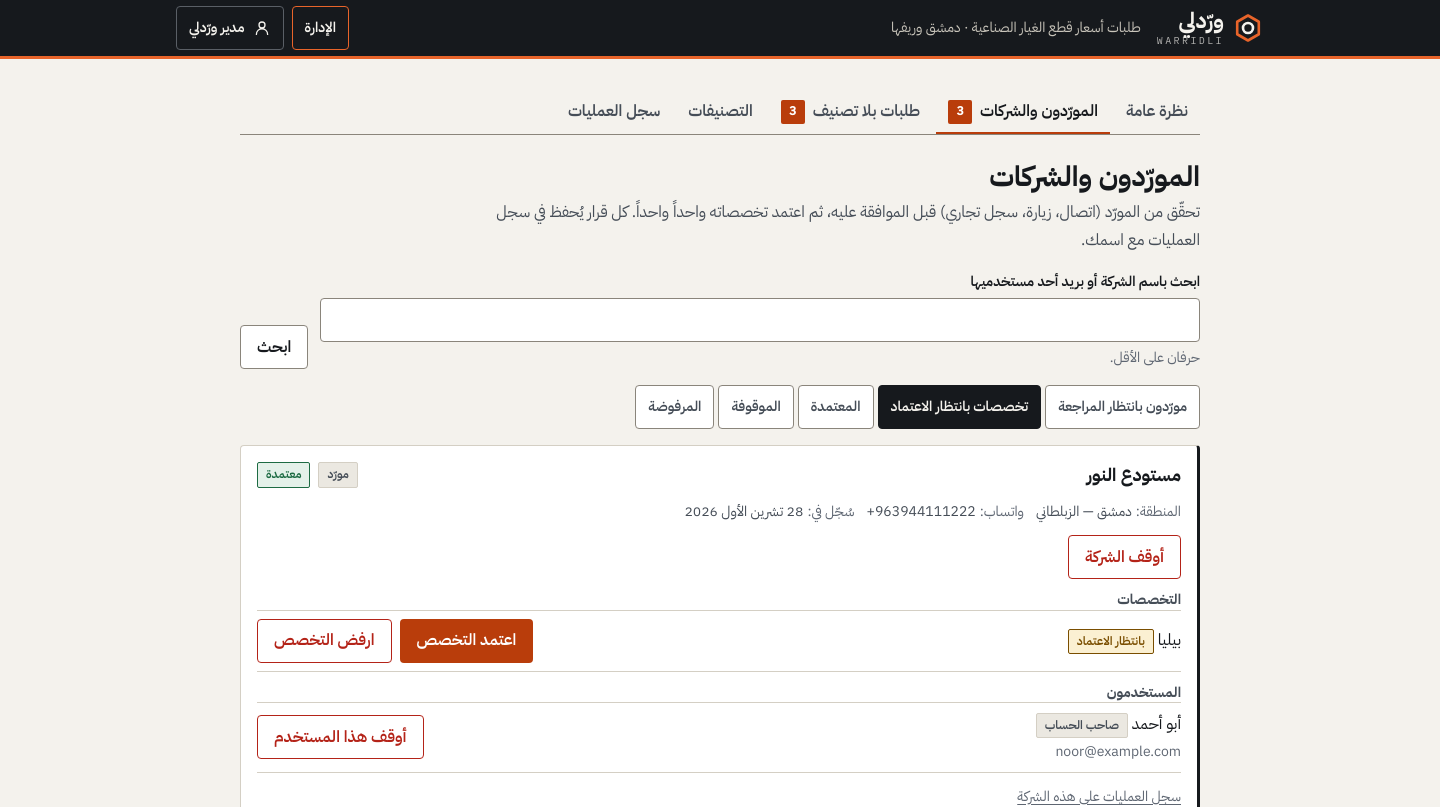
supplier vetting › approves a pending specialty from the specialties view
Click the button "اعتمد التخصص" at (466, 640), box [400,618,533,662]
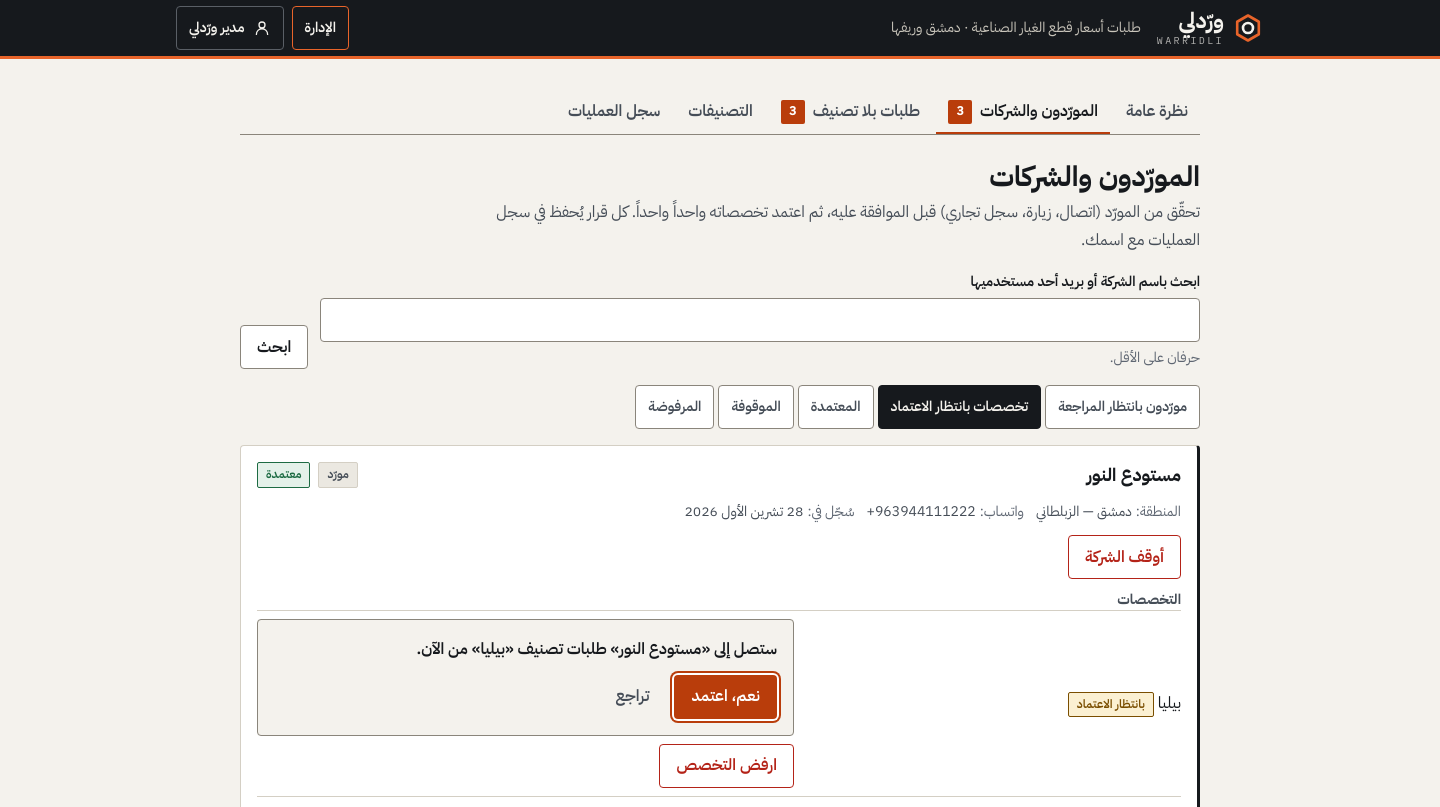
Check: the text "ستصل إلى «مستودع النور» طلبات تصنيف «بيليا» من الآن." is shown, box [416,636,777,660]
Click the button "نعم، اعتمد" at (726, 697), box [674,675,777,719]
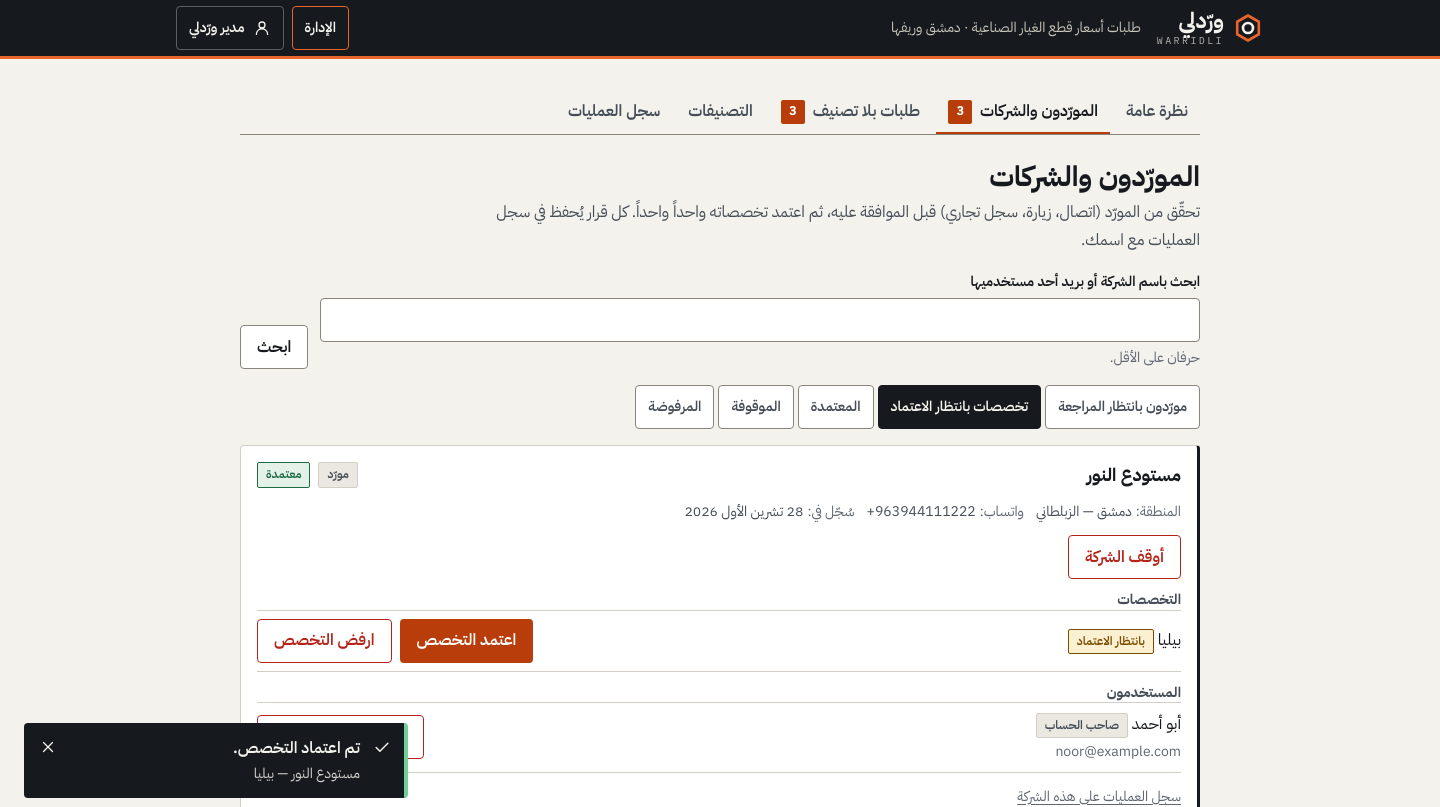
Check: the text "تم اعتماد التخصص." is shown, box [233,736,360,760]
